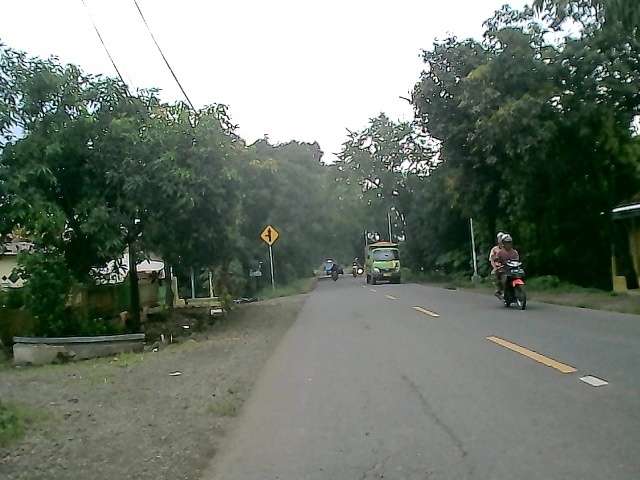Simpang kiri dengan prioritas: (256, 224, 281, 246)
